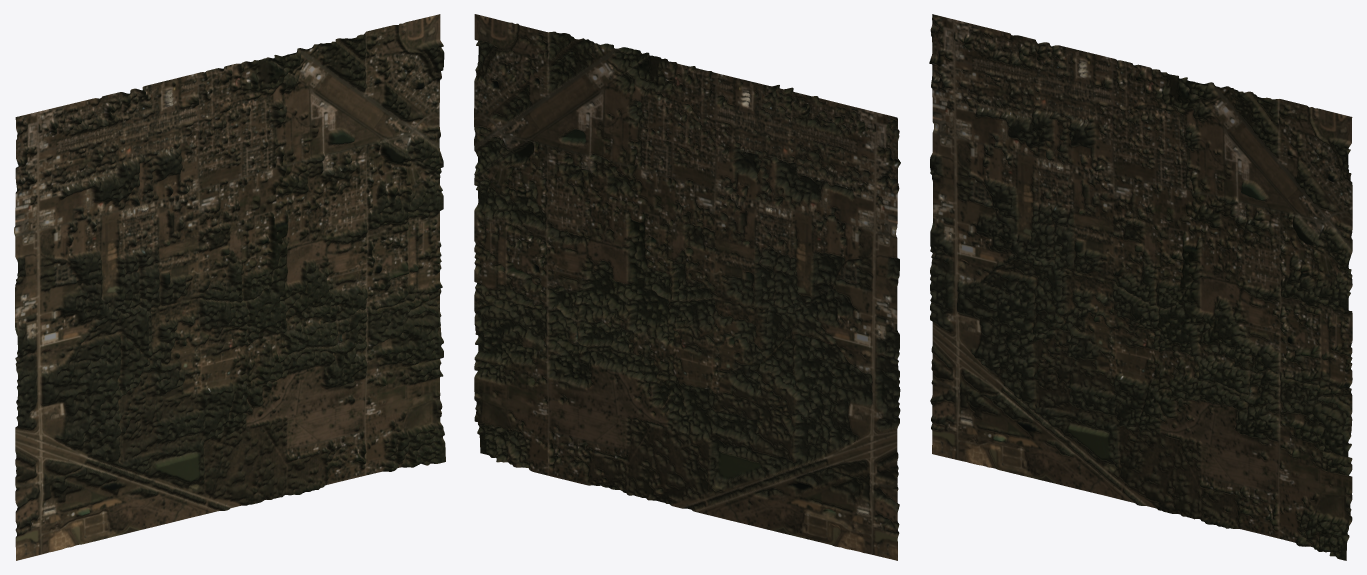
The model's file is urban_test.glb.
3 views of the same model, side by side, from view 1: azimuth 30°, elevation 25°; view 2: azimuth 150°, elevation 25°; view 3: azimuth 330°, elevation 25° (orthographic).
Visible parts, largest first — view 1: geometry_0; view 2: geometry_0; view 3: geometry_0.
Boxes of the visible parts, left/top/right/bottom form: geometry_0: left=14, top=14, right=445, bottom=560; geometry_0: left=474, top=14, right=900, bottom=560; geometry_0: left=929, top=14, right=1352, bottom=560.
Size of the model in its own units: 511 by 511 by 17.09.
1 material, 1 textured.
